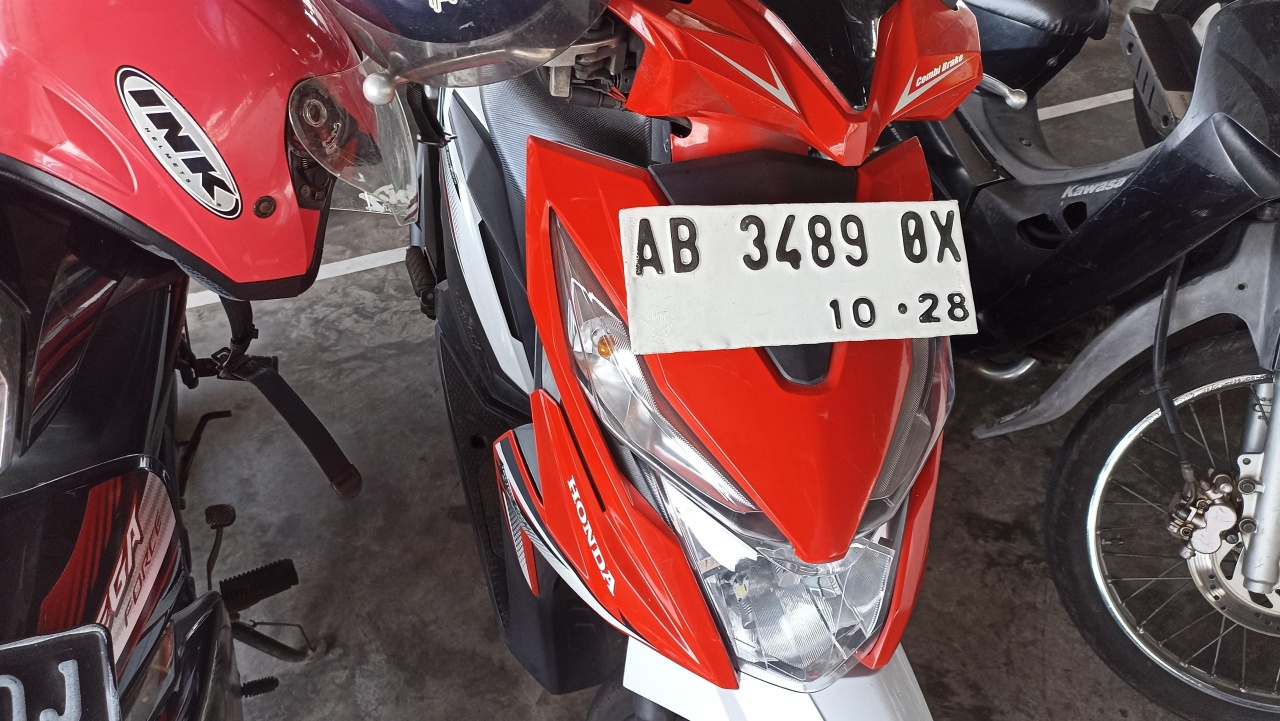plate: (623, 206, 979, 355)
